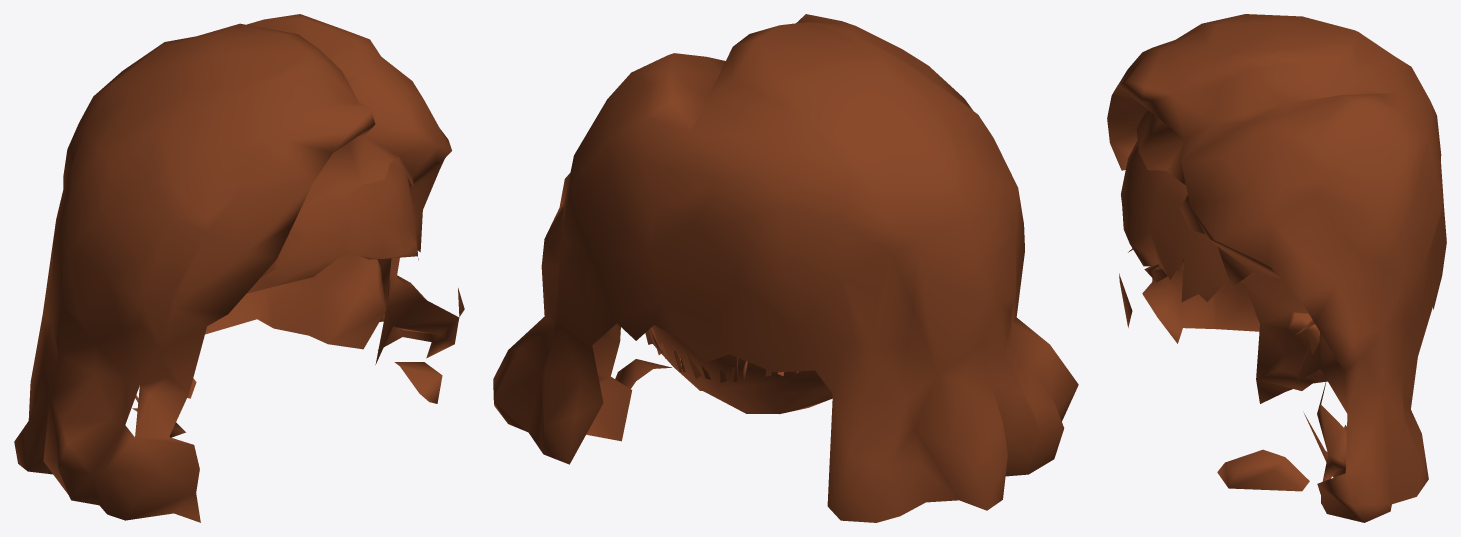
File: long-wavy.glb
3 views of the same model, side by side, from view 1: azimuth 30°, elevation 25°; view 2: azimuth 150°, elevation 25°; view 3: azimuth 270°, elevation 25° (orthographic). The views are drawn at different scales.
Parts seen in each view (by area): view 1: Hair, HairScalp; view 2: Hair, HairScalp, HairPulledRootStrands; view 3: Hair, HairScalp.
Boxes of the visible parts, bbox=[...] form: Hair: bbox=[14, 14, 464, 522]; HairScalp: bbox=[187, 156, 418, 398]; Hair: bbox=[493, 14, 1078, 522]; HairScalp: bbox=[648, 325, 832, 414]; HairPulledRootStrands: bbox=[645, 327, 799, 382]; Hair: bbox=[1107, 14, 1446, 522]; HairScalp: bbox=[1121, 145, 1327, 403].
Size of the model in its own units: 0.7516 by 0.5758 by 0.4653.
